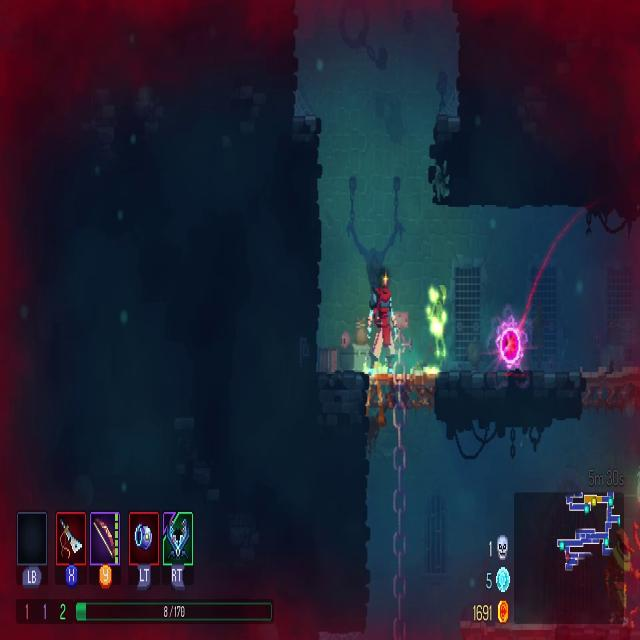agents: (368, 278, 398, 378)
enemy_archer: (626, 518, 640, 625)
enemy_green_puncher: (426, 284, 448, 378)
wood_floor: (366, 368, 438, 413), (577, 364, 640, 412)
